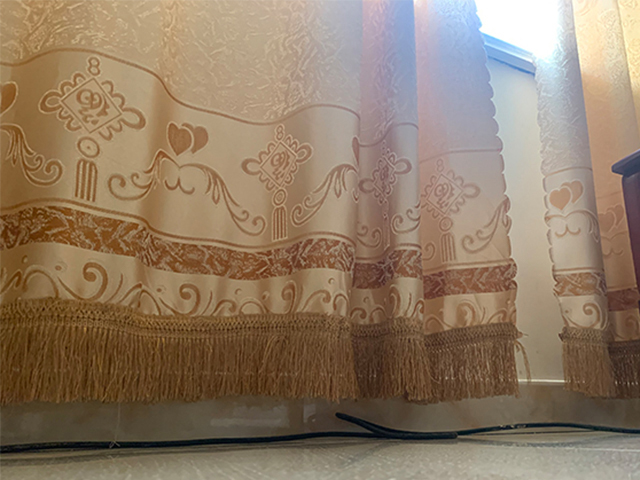curtain: (1, 1, 525, 401), (533, 1, 640, 398)
wire: (1, 412, 640, 455)
